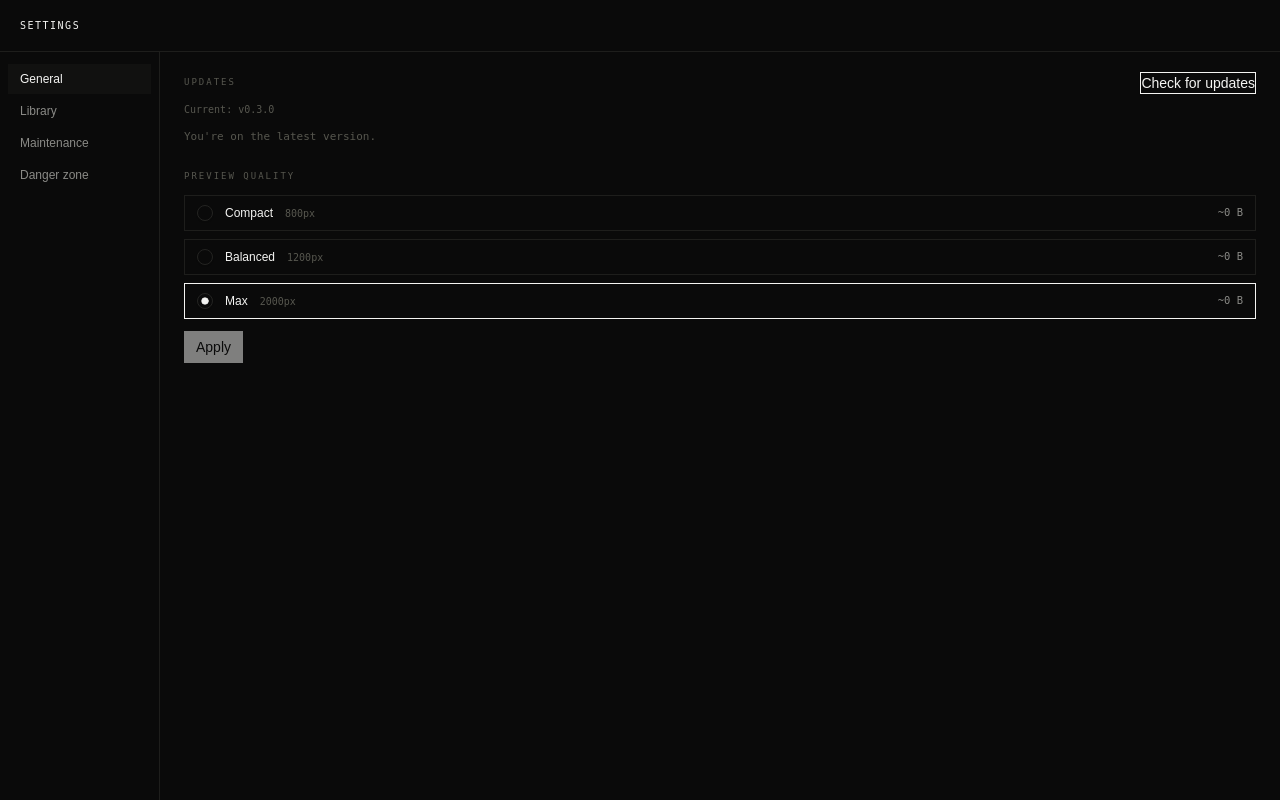
Test: navigates to the Maintenance group and renders its tools section
Expected: the text "Current: v0.3.0" is shown, [184,104,274,115]
Click the link "Maintenance" at (54, 143), box [20,136,89,150]
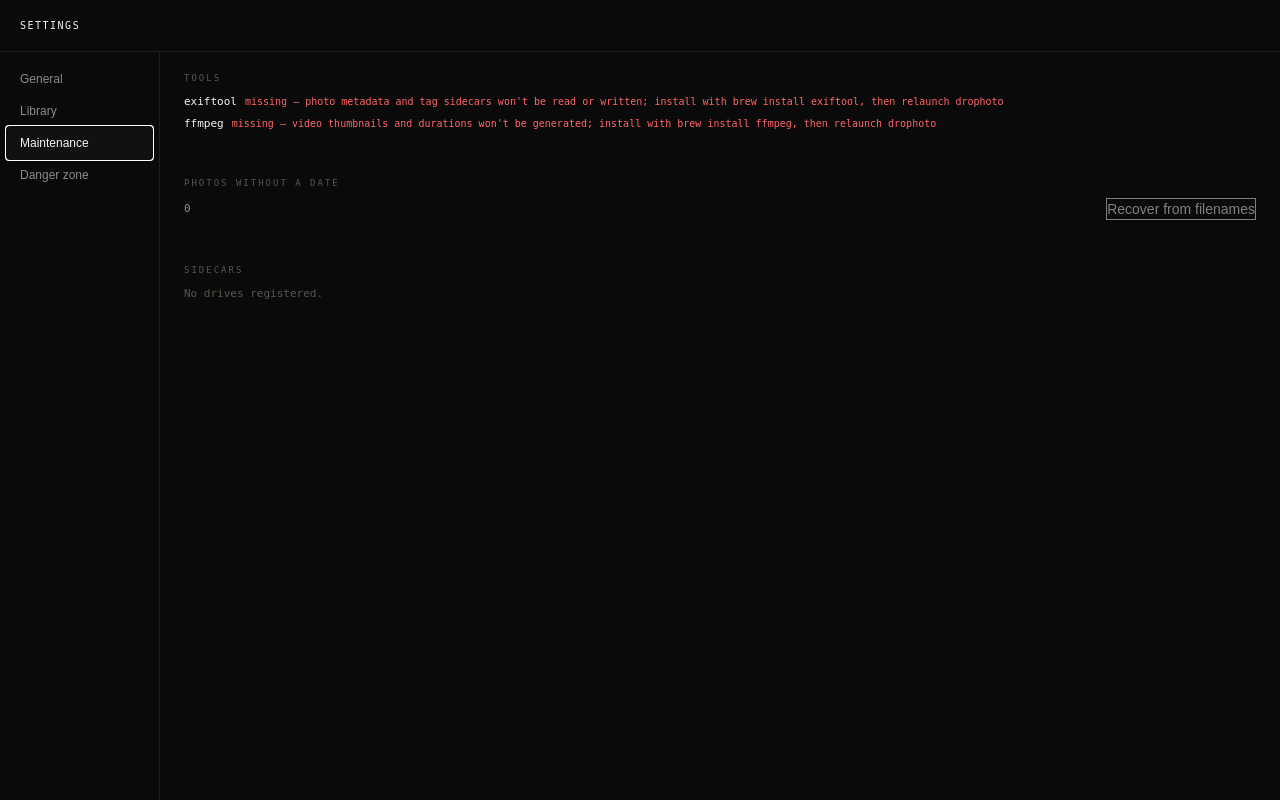
Now the text "brew install ffmpeg" is shown, box [677,118,792,129]
